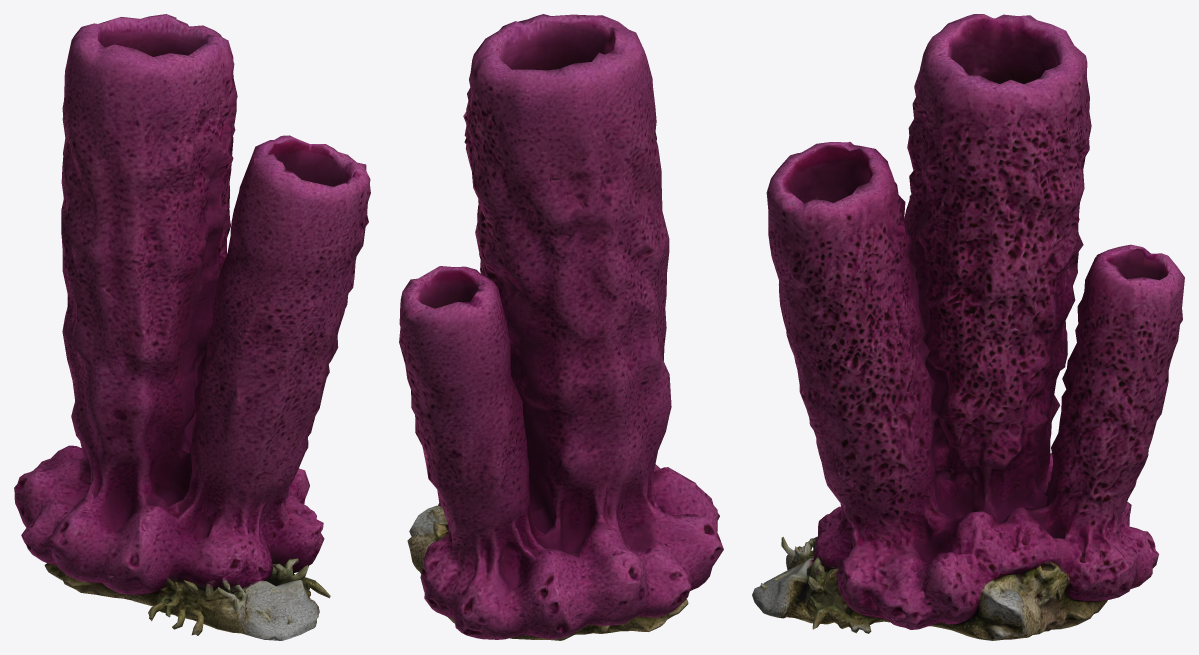
File: sponge.glb
3 renders of one model, left to right at view 1: azimuth 30°, elevation 25°; view 2: azimuth 150°, elevation 25°; view 3: azimuth 270°, elevation 25°, orthographic. The views are drawn at different scales.
Visible parts, largest first — view 1: tripo_node_a7bfabb4-aa25-4f18-92f7-0ee1c75084e6; view 2: tripo_node_a7bfabb4-aa25-4f18-92f7-0ee1c75084e6; view 3: tripo_node_a7bfabb4-aa25-4f18-92f7-0ee1c75084e6.
Boxes of the visible parts, left/top/right/bottom form: tripo_node_a7bfabb4-aa25-4f18-92f7-0ee1c75084e6: left=14, top=14, right=370, bottom=640; tripo_node_a7bfabb4-aa25-4f18-92f7-0ee1c75084e6: left=399, top=14, right=723, bottom=640; tripo_node_a7bfabb4-aa25-4f18-92f7-0ee1c75084e6: left=752, top=14, right=1184, bottom=640.
Size of the model in its own units: 0.5103 by 1 by 0.7113.
1 material, 1 textured.
